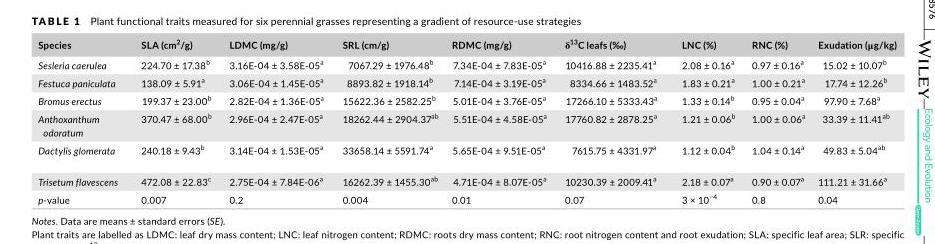table: (38, 36, 896, 204)
table column: (220, 36, 333, 204), (556, 36, 669, 204), (333, 36, 445, 204), (445, 36, 556, 204), (38, 36, 129, 204), (129, 36, 220, 204), (811, 36, 896, 204), (669, 36, 743, 204), (743, 36, 811, 204)
table column header: (38, 36, 896, 55)
table row: (38, 108, 896, 139), (38, 139, 896, 164), (38, 164, 896, 189), (38, 36, 896, 55), (38, 72, 896, 90), (38, 90, 896, 108), (38, 55, 896, 72), (38, 189, 896, 204)
